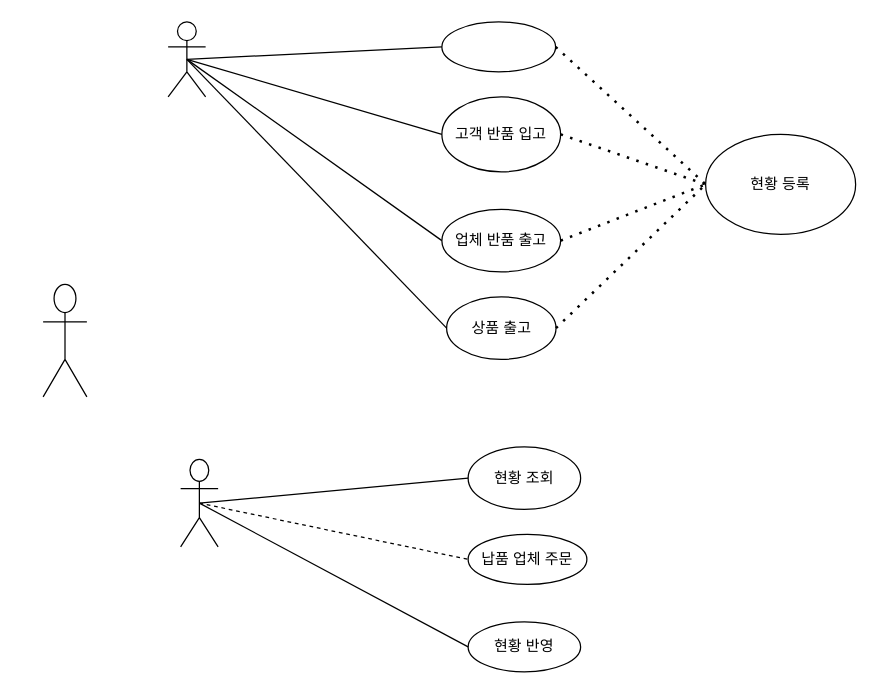
This 878x694 diagram has some shape labels left out. The centre of each missing label's shape, as x and y in pixels:
"쇼핑몰 시스템" belongs at (x=64, y=340).
"신제품 입고" belongs at (x=498, y=46).
"입출고 담당자" belongs at (x=186, y=59).
"현황 관리 담당자" belongs at (x=198, y=502).
